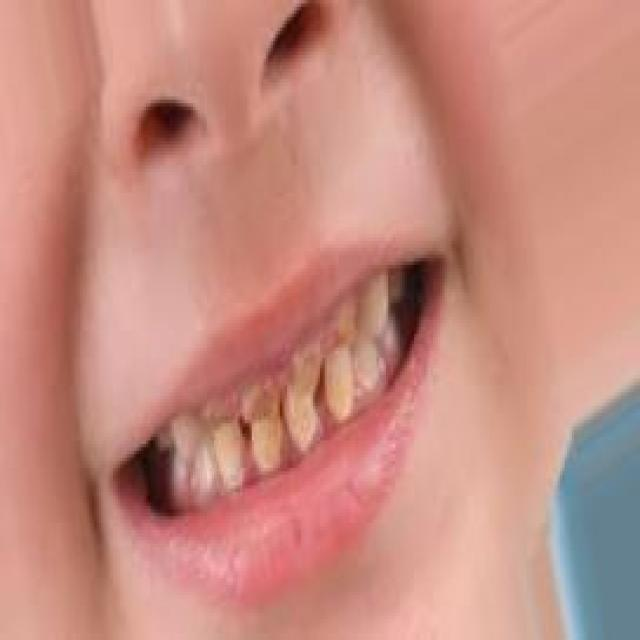caries: (285, 336, 328, 404), (238, 378, 285, 434), (328, 289, 357, 346)
